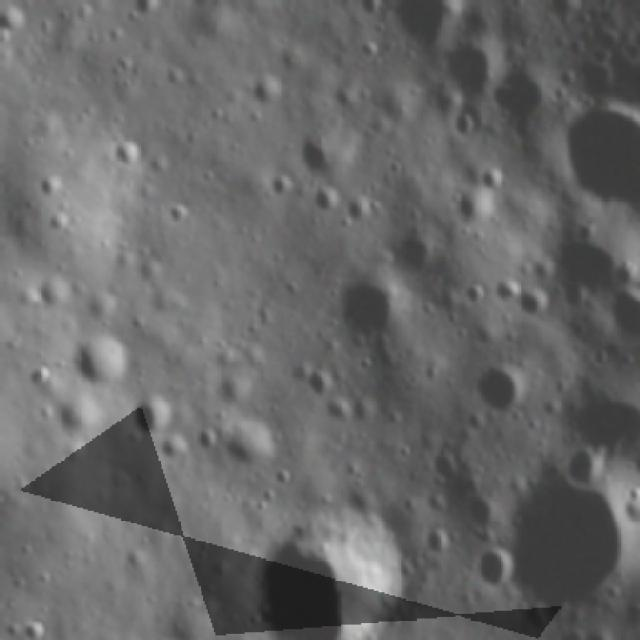crater: (491, 455, 640, 634), (249, 511, 409, 640), (551, 96, 640, 207), (566, 380, 640, 469), (332, 270, 410, 344), (383, 0, 468, 51), (490, 62, 550, 133), (467, 350, 528, 419), (442, 36, 503, 101), (66, 330, 134, 388), (219, 415, 283, 470), (388, 222, 448, 276), (559, 439, 610, 490), (294, 130, 348, 178), (469, 541, 516, 593), (600, 284, 640, 342), (133, 389, 181, 437), (458, 494, 505, 538), (451, 190, 498, 230), (342, 190, 381, 236), (321, 390, 361, 432), (248, 73, 286, 112), (423, 447, 460, 487), (513, 284, 553, 321), (105, 135, 144, 171), (302, 357, 336, 395), (308, 180, 342, 214), (190, 422, 222, 458), (423, 527, 454, 564), (0, 0, 29, 38), (18, 611, 50, 640), (620, 486, 640, 531), (476, 165, 504, 193), (126, 0, 165, 18), (134, 632, 188, 640)
